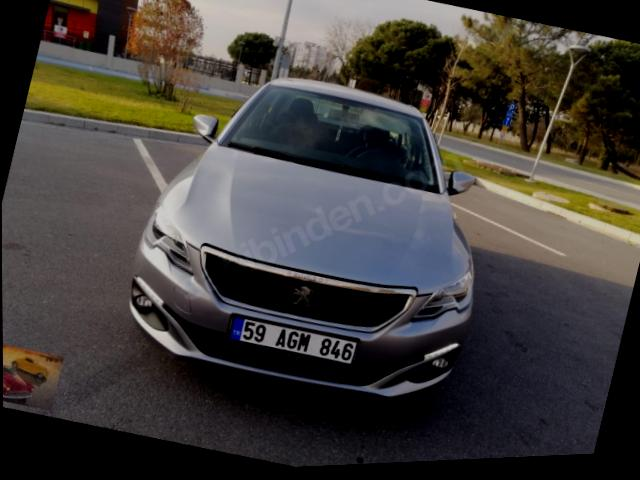plaka: (228, 318, 358, 364)
